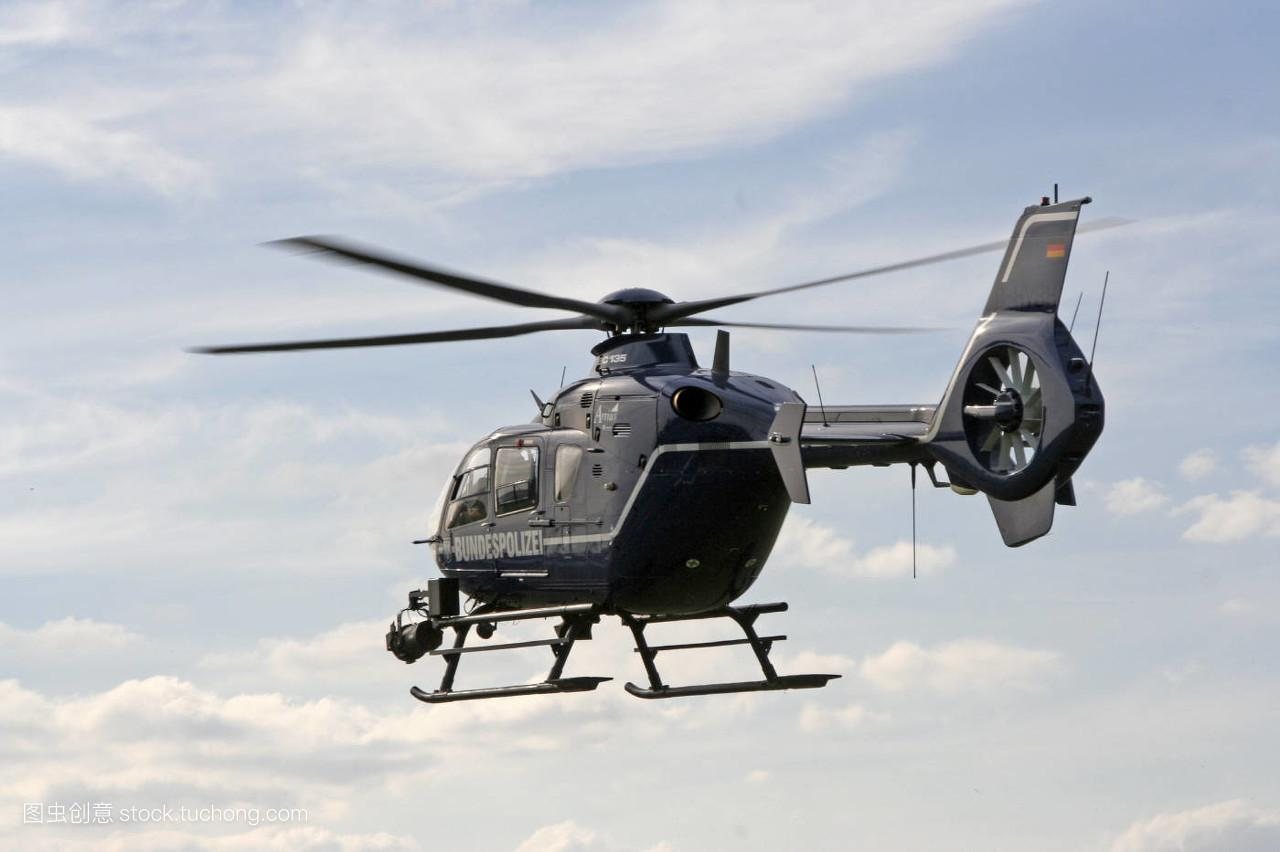airplane: (181, 180, 1173, 715)
